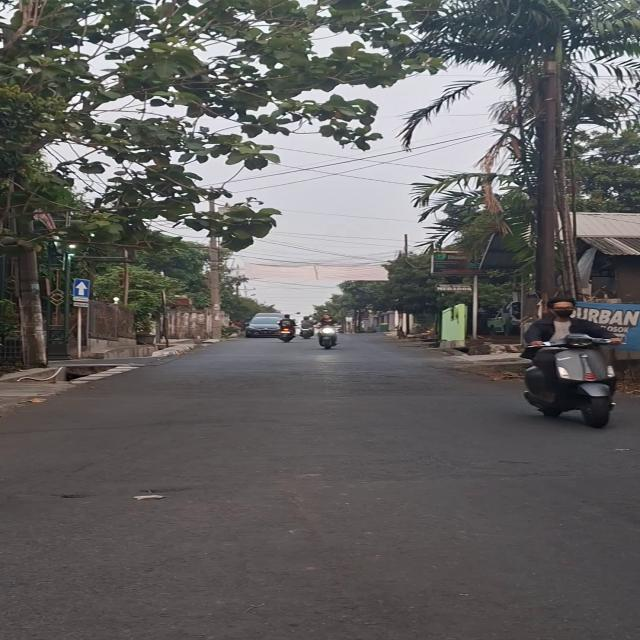WithHelmet: (275, 314, 301, 338), (298, 316, 317, 334)
WithoutHelmet: (513, 299, 632, 433), (317, 313, 342, 349)
